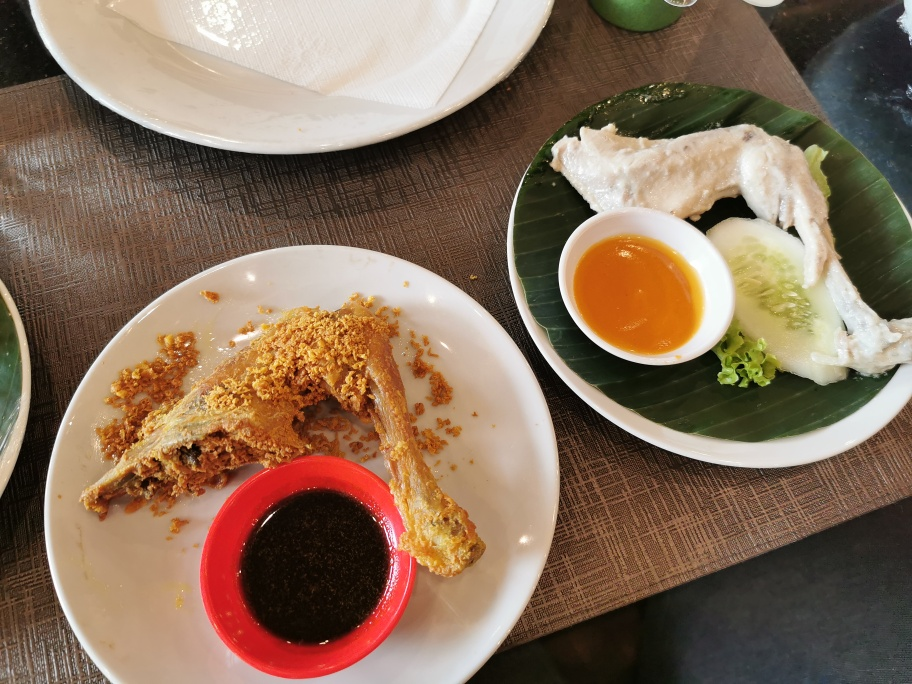ayam goreng: (83, 298, 481, 575)
ayam pop: (542, 112, 912, 373)
extra: (564, 207, 848, 388)
kecap: (191, 447, 413, 674)
